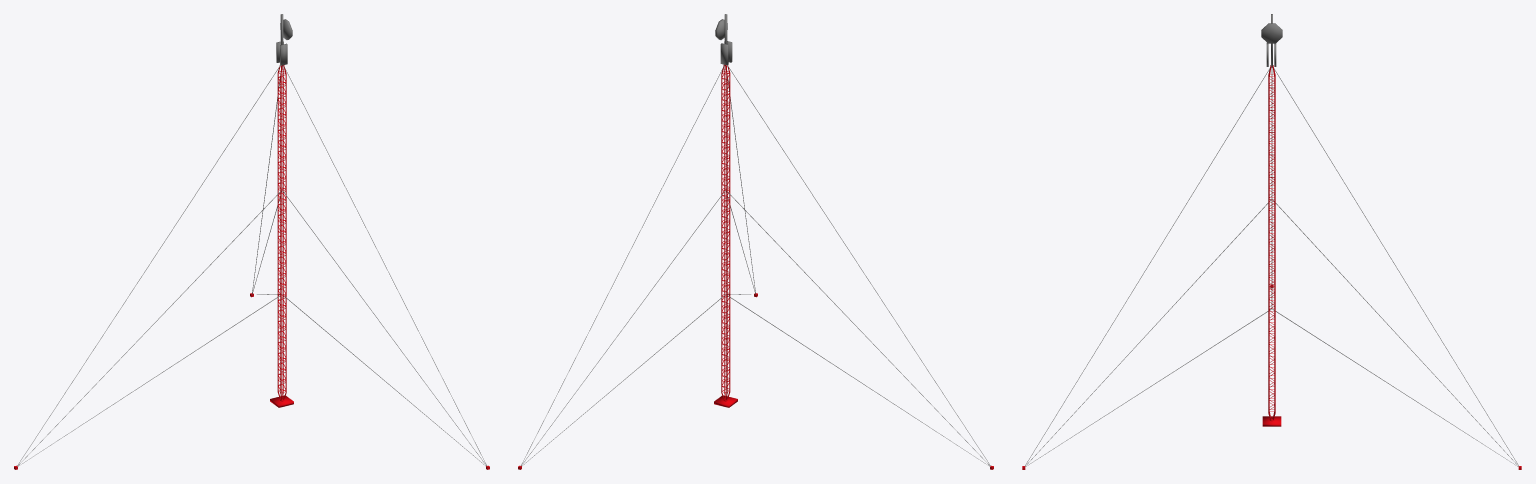
Rendered from Radio Tower3.fbx.
3 views of the same model, side by side, from view 1: azimuth 30°, elevation 25°; view 2: azimuth 150°, elevation 25°; view 3: azimuth 270°, elevation 25° (orthographic). The views are drawn at different scales.
Visible parts, largest first — view 1: Radio_Tower; view 2: Radio_Tower; view 3: Radio_Tower.
Part boxes in pixels (x1,y1,x2,y2): Radio_Tower: (14, 14, 489, 469); Radio_Tower: (518, 14, 993, 469); Radio_Tower: (1022, 14, 1521, 469).
Bounding box in the file's own units: 7027 × 7340 × 8106.
